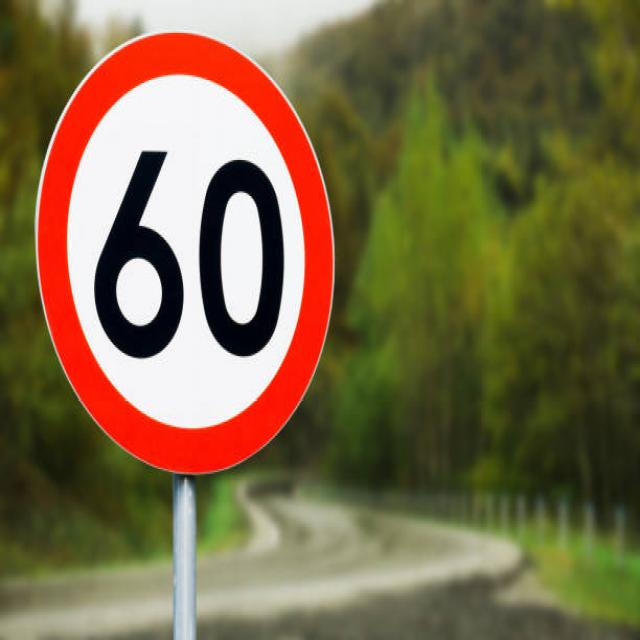speed_limit_60: (32, 25, 338, 482)
